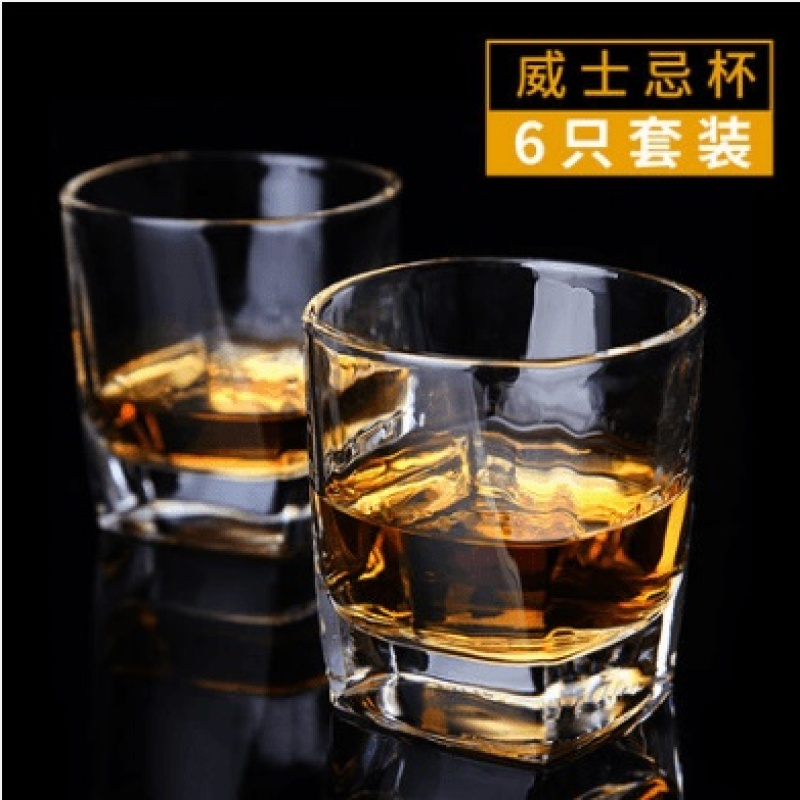whiskey: (310, 263, 714, 743), (58, 155, 308, 575)
